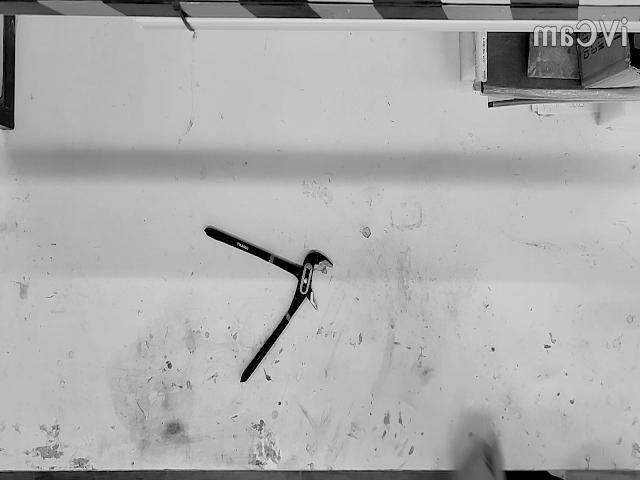Gas wrench: (204, 225, 332, 382)
Hand: (455, 442, 504, 480)
